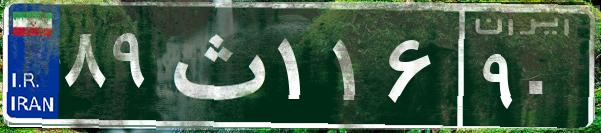0: (525, 38, 570, 115)
1: (273, 28, 330, 110), (330, 28, 385, 110)
6: (385, 28, 445, 110)
8: (57, 26, 110, 107)
9: (475, 38, 525, 113), (110, 28, 158, 105)
ث: (158, 15, 273, 115)
